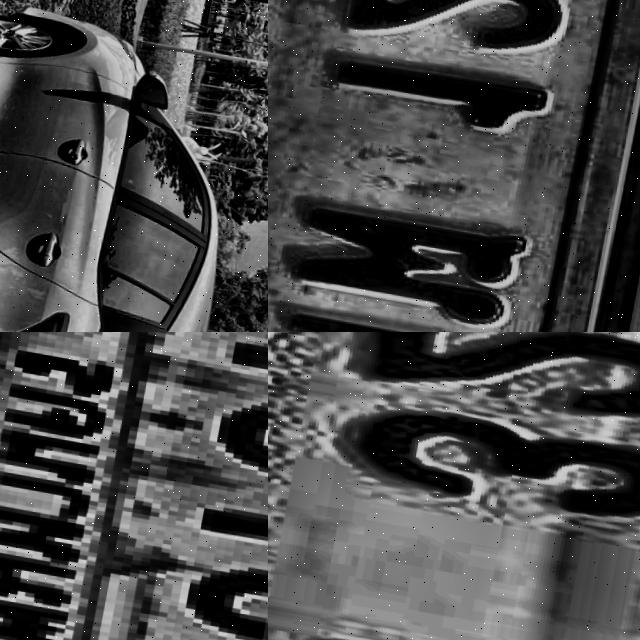license-plate: (268, 0, 640, 332), (268, 332, 640, 640), (0, 332, 268, 640)
